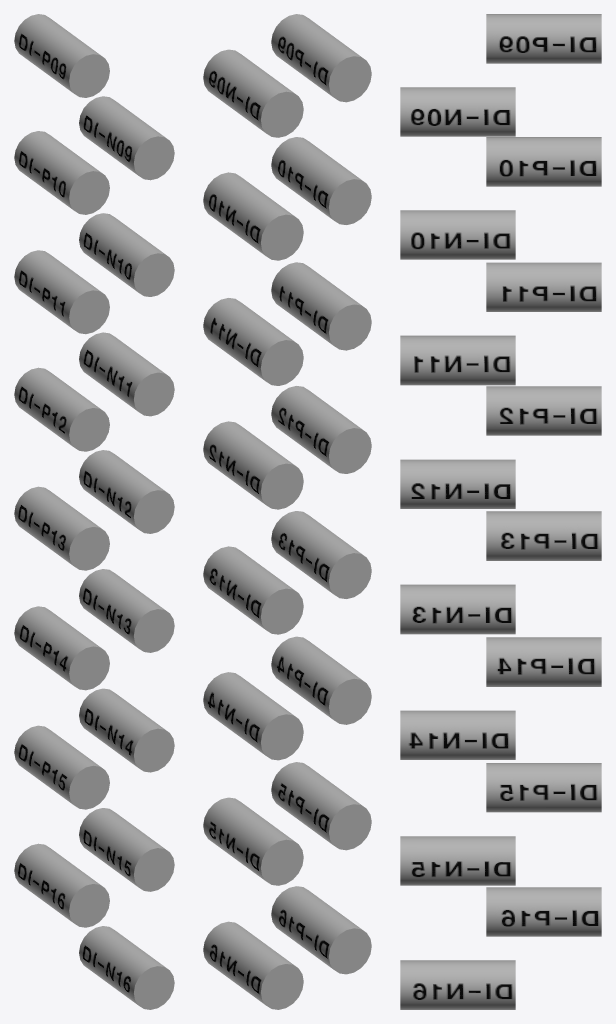
File: number2.FBX
3 renders of one model, left to right at view 1: azimuth 30°, elevation 25°; view 2: azimuth 210°, elevation 25°; view 3: azimuth 270°, elevation 25°, orthographic. The views are drawn at different scales.
Visible parts, largest first — view 1: Object5255, Object5251, Object5246, Object5248, Object5250, Object5252, Object5253, Object5254, Object5256, Object5245, Object5247, Object5249 (+4 smaller); view 2: Object5249, Object5248, Object5255, Object5246, Object5250, Object5258, Object5245, Object5251, Object5252, Object5253, Object5259, Object5260 (+4 smaller); view 3: Object5255, Object5257, Object5245, Object5246, Object5247, Object5248, Object5249, Object5250, Object5251, Object5252, Object5253, Object5254 (+4 smaller).
Boxes of the visible parts, x1,y1,x2,y2 form: Object5255: (79, 332, 174, 416); Object5251: (14, 725, 109, 809); Object5246: (14, 131, 109, 214); Object5248: (14, 367, 109, 451); Object5250: (14, 606, 109, 690); Object5252: (14, 843, 109, 927); Object5253: (79, 96, 174, 180); Object5254: (79, 213, 174, 296); Object5256: (79, 450, 174, 533); Object5245: (14, 14, 109, 97); Object5247: (14, 250, 109, 334); Object5249: (14, 486, 109, 570); Object5249: (271, 511, 371, 598); Object5248: (271, 386, 371, 473); Object5255: (203, 298, 303, 385); Object5246: (271, 137, 371, 224); Object5250: (271, 636, 371, 724); Object5258: (203, 672, 303, 760); Object5245: (271, 14, 371, 102); Object5251: (271, 762, 371, 850); Object5252: (271, 886, 371, 974); Object5253: (203, 49, 303, 137); Object5259: (203, 797, 303, 885); Object5260: (203, 921, 303, 1009); Object5255: (400, 335, 515, 385); Object5257: (400, 584, 515, 634); Object5245: (486, 14, 601, 63); Object5246: (486, 137, 601, 186); Object5247: (486, 262, 601, 311); Object5248: (486, 386, 601, 435); Object5249: (486, 511, 601, 560); Object5250: (486, 637, 601, 686); Object5251: (486, 763, 601, 812); Object5252: (486, 887, 601, 936); Object5253: (400, 87, 515, 136); Object5254: (400, 210, 515, 259).
Size of the model in its own units: 1.07 by 14.71 by 2.75.
